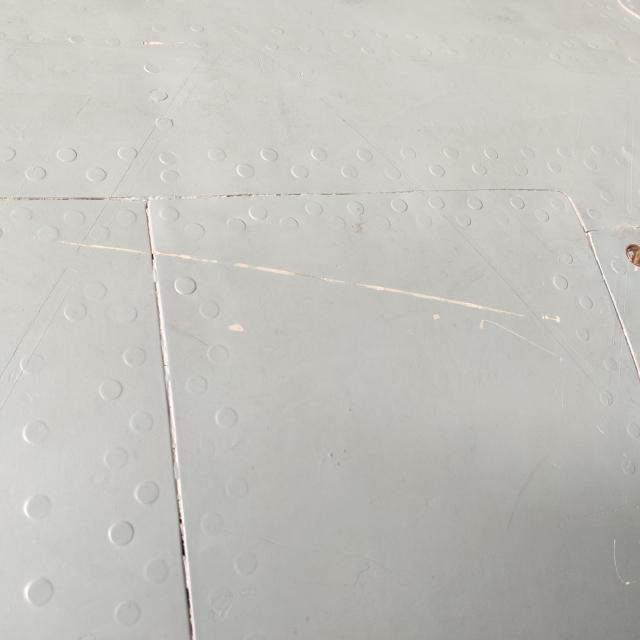scratch: (43, 196, 582, 342)
